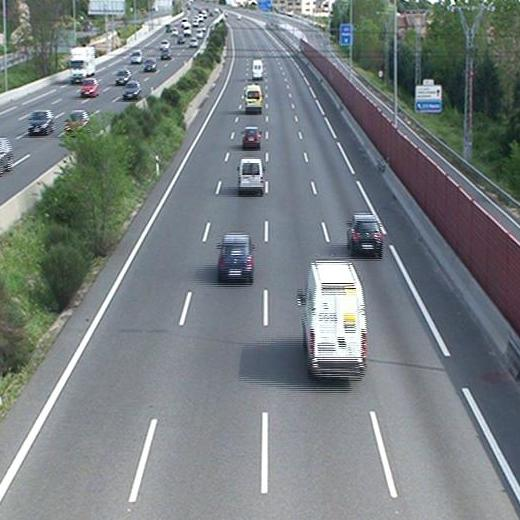car: (217, 235, 254, 282), (346, 215, 382, 257), (239, 126, 263, 148)
van: (296, 261, 368, 379), (237, 159, 266, 196), (242, 84, 263, 112), (250, 58, 264, 81)
